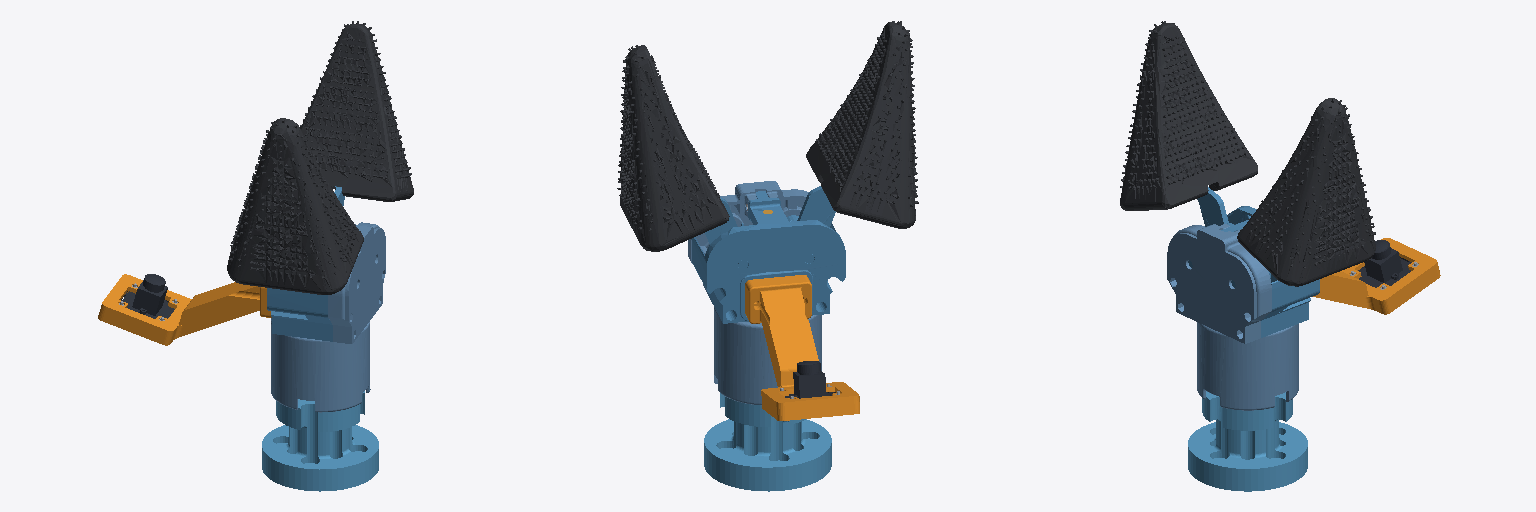
robot.urdf — marvin_r_with_gripper:
<?xml version='1.0' encoding='utf-8'?>
<robot name="marvin_r_with_gripper">
  <link name="Base_R">
    <inertial>
      <origin xyz="0.00032267 4.798E-05 0.04066353" rpy="0 0 0" />
      <mass value="1.1962" />
      <inertia ixx="0.00107329" ixy="-1.68E-06" ixz="-1.05E-05" iyy="0.00107003" iyz="-3.43E-06" izz="0.00127315" />
    </inertial>
    <visual>
      <origin xyz="0 0 0" rpy="0 0 0" />
      <geometry>
        <mesh filename="../meshes/Base_R.STL" />
      </geometry>
      <material name="">
        <color rgba="0.84 0.87 0.91 1" />
      </material>
    </visual>
    <collision>
      <origin xyz="0 0 0" rpy="0 0 0" />
      <geometry>
        <mesh filename="../meshes/Base_R.STL" />
      </geometry>
    </collision>
  </link>
  <link name="Link1_R">
    <inertial>
      <origin xyz="0.00002347 0.00557150 -0.03075998" rpy="0 0 0" />
      <mass value="1.9705" />
      <inertia ixx="0.00492293" ixy="0.00000550" ixz="0.00000193" iyy="0.00526513" iyz="0.00033232" izz="0.00188107" />
    </inertial>
    <visual>
      <origin xyz="0 0 0" rpy="0 0 0" />
      <geometry>
        <mesh filename="../meshes/Link1_R.STL" />
      </geometry>
      <material name="">
        <color rgba="0.84 0.87 0.91 1" />
      </material>
    </visual>
    <collision>
      <origin xyz="0 0 0" rpy="0 0 0" />
      <geometry>
        <mesh filename="../meshes/Link1_R.STL" />
      </geometry>
    </collision>
  </link>
  <joint name="Joint1_R" type="revolute">
    <origin xyz="0 0 0.1745" rpy="0 0 0" />
    <parent link="Base_R" />
    <child link="Link1_R" />
    <axis xyz="0 0 1" />
    <limit lower="-3.1067" upper="3.1067" effort="108" velocity="3.1416" />
  </joint>
  <link name="Link2_R">
    <inertial>
      <origin xyz="0.00013483 0.06170460 0.00950639" rpy="0 0 0" />
      <mass value="2.24398" />
      <inertia ixx="0.01194933" ixy="0.00000336" ixz="0.00000091" iyy="0.00361581" iyz="-0.00132804" izz="0.01098356" />
    </inertial>
    <visual>
      <origin xyz="0 0 0" rpy="0 0 0" />
      <geometry>
        <mesh filename="../meshes/Link2_R.STL" />
      </geometry>
      <material name="">
        <color rgba="0.84 0.87 0.91 1" />
      </material>
    </visual>
    <collision>
      <origin xyz="0 0 0" rpy="0 0 0" />
      <geometry>
        <mesh filename="../meshes/Link2_R.STL" />
      </geometry>
    </collision>
  </link>
  <joint name="Joint2_R" type="revolute">
    <origin xyz="0 0 0" rpy="1.5708 0 0" />
    <parent link="Link1_R" />
    <child link="Link2_R" />
    <axis xyz="0 0 1" />
    <limit lower="-2.0944" upper="2.0944" effort="108" velocity="3.1416" />
  </joint>
  <link name="Link3_R">
    <inertial>
      <origin xyz="0.00968562 0.00246599 -0.04627302" rpy="0 0 0" />
      <mass value="1.9242" />
      <inertia ixx="0.00718224" ixy="0.00004413" ixz="0.00089552" iyy="0.00762563" iyz="0.00022096" izz="0.00178597" />
    </inertial>
    <visual>
      <origin xyz="0 0 0" rpy="0 0 0" />
      <geometry>
        <mesh filename="../meshes/Link3_R.STL" />
      </geometry>
      <material name="">
        <color rgba="0.84 0.87 0.91 1" />
      </material>
    </visual>
    <collision>
      <origin xyz="0 0 0" rpy="0 0 0" />
      <geometry>
        <mesh filename="../meshes/Link3_R.STL" />
      </geometry>
    </collision>
  </link>
  <joint name="Joint3_R" type="revolute">
    <origin xyz="0 0.287 0" rpy="-1.5708 0 0" />
    <parent link="Link2_R" />
    <child link="Link3_R" />
    <axis xyz="0 0 1" />
    <limit lower="-3.1067" upper="3.1067" effort="66" velocity="3.1416" />
  </joint>
  <link name="Link4_R">
    <inertial>
      <origin xyz="0.00850411 -0.04718223 0.00941509" rpy="0 0 0" />
      <mass value="1.6085" />
      <inertia ixx="0.00580480" ixy="-0.00066669" ixz="-0.00012722" iyy="0.00223807" iyz="0.00070523" izz="0.00533060" />
    </inertial>
    <visual>
      <origin xyz="0 0 0" rpy="0 0 0" />
      <geometry>
        <mesh filename="../meshes/Link4_R.STL" />
      </geometry>
      <material name="">
        <color rgba="0.84 0.87 0.91 1" />
      </material>
    </visual>
    <collision>
      <origin xyz="0 0 0" rpy="0 0 0" />
      <geometry>
        <mesh filename="../meshes/Link4_R.STL" />
      </geometry>
    </collision>
  </link>
  <joint name="Joint4_R" type="revolute">
    <origin xyz="0.018 0 0" rpy="-1.5708 0 3.1416" />
    <parent link="Link3_R" />
    <child link="Link4_R" />
    <axis xyz="0 0 1" />
    <limit lower="-2.5307" upper="1.0472" effort="66" velocity="3.1416" />
  </joint>
  <link name="Link5_R">
    <inertial>
      <origin xyz="-0.00051127 -0.00101064 -0.11271739" rpy="0 0 0" />
      <mass value="2.0883" />
      <inertia ixx="0.00626603" ixy="0.00004009" ixz="-0.00005338" iyy="0.00564387" iyz="0.00006193" izz="0.00243632" />
    </inertial>
    <visual>
      <origin xyz="0 0 0" rpy="0 0 0" />
      <geometry>
        <mesh filename="../meshes/Link5_R.STL" />
      </geometry>
      <material name="">
        <color rgba="0.84 0.87 0.91 1" />
      </material>
    </visual>
    <collision>
      <origin xyz="0 0 0" rpy="0 0 0" />
      <geometry>
        <mesh filename="../meshes/Link5_R.STL" />
      </geometry>
    </collision>
  </link>
  <joint name="Joint5_R" type="revolute">
    <origin xyz="0.018 -0.314 0" rpy="-1.5708 0 3.1416" />
    <parent link="Link4_R" />
    <child link="Link5_R" />
    <axis xyz="0 0 1" />
    <limit lower="-3.1067" upper="3.1067" effort="18" velocity="3.1416" />
  </joint>
  <link name="Link6_R">
    <inertial>
      <origin xyz="0.00032659 -0.00531336 0.00030182" rpy="0 0 0" />
      <mass value="0.72496" />
      <inertia ixx="0.00046040" ixy="-0.00000189" ixz="-0.00000083" iyy="0.00051716" iyz="-0.00000346" izz="0.00042521" />
    </inertial>
    <visual>
      <origin xyz="0 0 0" rpy="0 0 0" />
      <geometry>
        <mesh filename="../meshes/Link6_R.STL" />
      </geometry>
      <material name="">
        <color rgba="0.84 0.87 0.91 1" />
      </material>
    </visual>
    <collision>
      <origin xyz="0 0 0" rpy="0 0 0" />
      <geometry>
        <mesh filename="../meshes/Link6_R.STL" />
      </geometry>
    </collision>
  </link>
  <joint name="Joint6_R" type="revolute">
    <origin xyz="0 0 0" rpy="1.5708 -1.5708 0" />
    <parent link="Link5_R" />
    <child link="Link6_R" />
    <axis xyz="0 0 1" />
    <limit lower="-1.0472" upper="1.0472" effort="18" velocity="3.1416" />
  </joint>
  <link name="Link7_R">
    <inertial>
      <origin xyz="-0.00009108 -0.03153255 0.00889371" rpy="0 0 0" />
      <mass value="0.68606" />
      <inertia ixx="0.00173687" ixy="-0.00000345" ixz="-0.00000116" iyy="0.00089035" iyz="0.00030680" izz="0.00139406" />
    </inertial>
    <visual>
      <origin xyz="0 0 0" rpy="0 0 0" />
      <geometry>
        <mesh filename="../meshes/Link7_R.STL" />
      </geometry>
      <material name="">
        <color rgba="0.84 0.87 0.91 1" />
      </material>
    </visual>
    <collision>
      <origin xyz="0 0 0" rpy="0 0 0" />
      <geometry>
        <mesh filename="../meshes/Link7_R.STL" />
      </geometry>
    </collision>
  </link>
  <joint name="Joint7_R" type="revolute">
    <origin xyz="0 0 0" rpy="1.5708 -1.5708 0" />
    <parent link="Link6_R" />
    <child link="Link7_R" />
    <axis xyz="0 0 1" />
    <limit lower="-1.5708" upper="1.5708" effort="18" velocity="3.1416" />
  </joint>
  <mujoco>
    <compiler discardvisual="false" fusestatic="false" strippath="false" />
  </mujoco>
  <link name="flange_R" />
  <joint name="flange_fixed_R" type="fixed">
    <parent link="Link7_R" />
    <child link="flange_R" />
    <origin xyz="0 -0.095 0" rpy="1.57079632679 -1.57079632679 0" />
  </joint>
  <link name="gripper_R">
    <inertial>
      <origin xyz="0.0173978487962 -0.0173985527421 0.0879018604755" rpy="0 0 0" />
      <mass value="0.5599999999999999" />
      <inertia ixx="0.002279585654318638" iyy="0.00227957296689104" izz="0.0016745101131867824" ixy="0" ixz="0" iyz="0" />
    </inertial>
    <visual name="windows_00">
      <origin xyz="0 0 0" rpy="0 0 0" />
      <geometry>
        <mesh filename="../meshes/gripper/windows_00.stl" />
      </geometry>
      <material name="windows_00">
        <color rgba="0.65 0.66 0.68 1" />
      </material>
    </visual>
    <visual name="windows_01">
      <origin xyz="0 0 0" rpy="0 0 0" />
      <geometry>
        <mesh filename="../meshes/gripper/windows_01.stl" />
      </geometry>
      <material name="windows_01">
        <color rgba="0.65 0.66 0.68 1" />
      </material>
    </visual>
    <visual name="windows_02">
      <origin xyz="0 0 0" rpy="0 0 0" />
      <geometry>
        <mesh filename="../meshes/gripper/windows_02.stl" />
      </geometry>
      <material name="windows_02">
        <color rgba="0.65 0.66 0.68 1" />
      </material>
    </visual>
    <visual name="windows_03">
      <origin xyz="0 0 0" rpy="0 0 0" />
      <geometry>
        <mesh filename="../meshes/gripper/windows_03.stl" />
      </geometry>
      <material name="windows_03">
        <color rgba="0.65 0.66 0.68 1" />
      </material>
    </visual>
    <visual name="windows_04">
      <origin xyz="0 0 0" rpy="0 0 0" />
      <geometry>
        <mesh filename="../meshes/gripper/windows_04.stl" />
      </geometry>
      <material name="windows_04">
        <color rgba="0.65 0.66 0.68 1" />
      </material>
    </visual>
    <visual name="windows_05">
      <origin xyz="0 0 0" rpy="0 0 0" />
      <geometry>
        <mesh filename="../meshes/gripper/windows_05.stl" />
      </geometry>
      <material name="windows_05">
        <color rgba="0.65 0.66 0.68 1" />
      </material>
    </visual>
    <visual name="windows_06">
      <origin xyz="0 0 0" rpy="0 0 0" />
      <geometry>
        <mesh filename="../meshes/gripper/windows_06.stl" />
      </geometry>
      <material name="windows_06">
        <color rgba="0.65 0.66 0.68 1" />
      </material>
    </visual>
    <visual name="windows_07">
      <origin xyz="0 0 0" rpy="0 0 0" />
      <geometry>
        <mesh filename="../meshes/gripper/windows_07.stl" />
      </geometry>
      <material name="windows_07">
        <color rgba="0.65 0.66 0.68 1" />
      </material>
    </visual>
    <visual name="windows_08">
      <origin xyz="0 0 0" rpy="0 0 0" />
      <geometry>
        <mesh filename="../meshes/gripper/windows_08.stl" />
      </geometry>
      <material name="windows_08">
        <color rgba="0.65 0.66 0.68 1" />
      </material>
    </visual>
    <visual name="windows_09">
      <origin xyz="0 0 0" rpy="0 0 0" />
      <geometry>
        <mesh filename="../meshes/gripper/windows_09.stl" />
      </geometry>
      <material name="windows_09">
        <color rgba="0.65 0.66 0.68 1" />
      </material>
    </visual>
    <visual name="windows_12">
      <origin xyz="0 0 0" rpy="0 0 0" />
      <geometry>
        <mesh filename="../meshes/gripper/windows_12.stl" />
      </geometry>
      <material name="windows_12">
        <color rgba="0.64 0.67 0.71 1" />
      </material>
    </visual>
    <visual name="windows_13">
      <origin xyz="0 0 0" rpy="0 0 0" />
      <geometry>
        <mesh filename="../meshes/gripper/windows_13.stl" />
      </geometry>
      <material name="windows_13">
        <color rgba="0.43 0.58 0.72 1" />
      </material>
    </visual>
    <collision>
      <origin xyz="0 0 0" rpy="0 0 0" />
      <geometry>
        <mesh filename="../meshes/gripper/windows_13_collision.stl" />
      </geometry>
    </collision>
    <visual name="windows_14">
      <origin xyz="0 0 0" rpy="0 0 0" />
      <geometry>
        <mesh filename="../meshes/gripper/windows_14.stl" />
      </geometry>
      <material name="windows_14">
        <color rgba="0.92 0.6 0.2 1" />
      </material>
    </visual>
    <visual name="windows_15">
      <origin xyz="0 0 0" rpy="0 0 0" />
      <geometry>
        <mesh filename="../meshes/gripper/windows_15.stl" />
      </geometry>
      <material name="windows_15">
        <color rgba="0.83 0.62 0.28 1" />
      </material>
    </visual>
    <visual name="windows_18">
      <origin xyz="0 0 0" rpy="0 0 0" />
      <geometry>
        <mesh filename="../meshes/gripper/windows_18.stl" />
      </geometry>
      <material name="windows_18">
        <color rgba="0.64 0.67 0.71 1" />
      </material>
    </visual>
    <visual name="windows_19">
      <origin xyz="0 0 0" rpy="0 0 0" />
      <geometry>
        <mesh filename="../meshes/gripper/windows_19.stl" />
      </geometry>
      <material name="windows_19">
        <color rgba="0.64 0.67 0.71 1" />
      </material>
    </visual>
    <visual name="windows_20">
      <origin xyz="0 0 0" rpy="0 0 0" />
      <geometry>
        <mesh filename="../meshes/gripper/windows_20.stl" />
      </geometry>
      <material name="windows_20">
        <color rgba="0.35 0.57 0.73 1" />
      </material>
    </visual>
    <collision>
      <origin xyz="0 0 0" rpy="0 0 0" />
      <geometry>
        <mesh filename="../meshes/gripper/windows_20_collision.stl" />
      </geometry>
    </collision>
    <visual name="windows_21">
      <origin xyz="0 0 0" rpy="0 0 0" />
      <geometry>
        <mesh filename="../meshes/gripper/windows_21.stl" />
      </geometry>
      <material name="windows_21">
        <color rgba="0.22 0.24 0.28 1" />
      </material>
    </visual>
    <visual name="windows_22">
      <origin xyz="0 0 0" rpy="0 0 0" />
      <geometry>
        <mesh filename="../meshes/gripper/windows_22.stl" />
      </geometry>
      <material name="windows_22">
        <color rgba="0.38 0.64 0.8 1" />
      </material>
    </visual>
    <visual name="windows_23">
      <origin xyz="0 0 0" rpy="0 0 0" />
      <geometry>
        <mesh filename="../meshes/gripper/windows_23.stl" />
      </geometry>
      <material name="windows_23">
        <color rgba="0.43 0.58 0.72 1" />
      </material>
    </visual>
    <collision>
      <origin xyz="0 0 0" rpy="0 0 0" />
      <geometry>
        <mesh filename="../meshes/gripper/windows_23_collision.stl" />
      </geometry>
    </collision>
    <visual name="windows_25">
      <origin xyz="0 0 0" rpy="0 0 0" />
      <geometry>
        <mesh filename="../meshes/gripper/windows_25.stl" />
      </geometry>
      <material name="windows_25">
        <color rgba="0.64 0.67 0.71 1" />
      </material>
    </visual>
    <visual name="windows_26">
      <origin xyz="0 0 0" rpy="0 0 0" />
      <geometry>
        <mesh filename="../meshes/gripper/windows_26.stl" />
      </geometry>
      <material name="windows_26">
        <color rgba="0.64 0.67 0.71 1" />
      </material>
    </visual>
    <visual name="windows_27">
      <origin xyz="0 0 0" rpy="0 0 0" />
      <geometry>
        <mesh filename="../meshes/gripper/windows_27.stl" />
      </geometry>
      <material name="windows_27">
        <color rgba="0.64 0.67 0.71 1" />
      </material>
    </visual>
    <visual name="windows_28">
      <origin xyz="0 0 0" rpy="0 0 0" />
      <geometry>
        <mesh filename="../meshes/gripper/windows_28.stl" />
      </geometry>
      <material name="windows_28">
        <color rgba="0.64 0.67 0.71 1" />
      </material>
    </visual>
    <visual name="windows_29">
      <origin xyz="0 0 0" rpy="0 0 0" />
      <geometry>
        <mesh filename="../meshes/gripper/windows_29.stl" />
      </geometry>
      <material name="windows_29">
        <color rgba="0.65 0.66 0.68 1" />
      </material>
    </visual>
    <visual name="windows_30">
      <origin xyz="0 0 0" rpy="0 0 0" />
      <geometry>
        <mesh filename="../meshes/gripper/windows_30.stl" />
      </geometry>
      <material name="windows_30">
        <color rgba="0.64 0.67 0.71 1" />
      </material>
    </visual>
    <visual name="windows_31">
      <origin xyz="0 0 0" rpy="0 0 0" />
      <geometry>
        <mesh filename="../meshes/gripper/windows_31.stl" />
      </geometry>
      <material name="windows_31">
        <color rgba="0.65 0.66 0.68 1" />
      </material>
    </visual>
    <visual name="windows_32">
      <origin xyz="0 0 0" rpy="0 0 0" />
      <geometry>
        <mesh filename="../meshes/gripper/windows_32.stl" />
      </geometry>
      <material name="windows_32">
        <color rgba="0.65 0.66 0.68 1" />
      </material>
    </visual>
    <visual name="windows_33">
      <origin xyz="0 0 0" rpy="0 0 0" />
      <geometry>
        <mesh filename="../meshes/gripper/windows_33.stl" />
      </geometry>
      <material name="windows_33">
        <color rgba="0.65 0.66 0.68 1" />
      </material>
    </visual>
    <visual name="windows_34">
      <origin xyz="0 0 0" rpy="0 0 0" />
      <geometry>
        <mesh filename="../meshes/gripper/windows_34.stl" />
      </geometry>
      <material name="windows_34">
        <color rgba="0.64 0.67 0.71 1" />
      </material>
    </visual>
    <visual name="windows_35">
      <origin xyz="0 0 0" rpy="0 0 0" />
      <geometry>
        <mesh filename="../meshes/gripper/windows_35.stl" />
      </geometry>
      <material name="windows_35">
        <color rgba="0.65 0.66 0.68 1" />
      </material>
    </visual>
    <visual name="windows_36">
      <origin xyz="0 0 0" rpy="0 0 0" />
      <geometry>
        <mesh filename="../meshes/gripper/windows_36.stl" />
      </geometry>
      <material name="windows_36">
        <color rgba="0.64 0.67 0.71 1" />
      </material>
    </visual>
    <visual name="windows_37">
      <origin xyz="0 0 0" rpy="0 0 0" />
      <geometry>
        <mesh filename="../meshes/gripper/windows_37.stl" />
      </geometry>
      <material name="windows_37">
        <color rgba="0.64 0.67 0.71 1" />
      </material>
    </visual>
  </link>
  <link name="gripper_R_shaft">
    <inertial>
      <origin xyz="0 0 0.0222999959052" rpy="0 0 0" />
      <mass value="0.08000000000000002" />
      <inertia ixx="3.8087871309740615e-05" iyy="3.809107795905756e-05" izz="1.6325626265346687e-05" ixy="0" ixz="0" iyz="0" />
    </inertial>
    <visual name="windows_24">
      <origin xyz="0 0 0" rpy="0 0 0" />
      <geometry>
        <mesh filename="../meshes/gripper/windows_24.stl" />
      </geometry>
      <material name="windows_24">
        <color rgba="0.83 0.62 0.28 1" />
      </material>
    </visual>
  </link>
  <link name="gripper_R_1">
    <inertial>
      <origin xyz="0.00609649628609 -0.00743152875382 0.0388951395498" rpy="0 0 0" />
      <mass value="0.08000000000000002" />
      <inertia ixx="9.842353058535354e-05" iyy="0.00010140583011828495" izz="4.556528629881749e-05" ixy="0" ixz="0" iyz="0" />
    </inertial>
    <visual name="windows_11">
      <origin xyz="0 0 0" rpy="0 0 0" />
      <geometry>
        <mesh filename="../meshes/gripper/windows_11.stl" />
      </geometry>
      <material name="windows_11">
        <color rgba="0.25 0.26 0.28 1" />
      </material>
    </visual>
    <collision>
      <origin xyz="0 0 0" rpy="0 0 0" />
      <geometry>
        <mesh filename="../meshes/gripper/windows_11_collision.stl" />
      </geometry>
    </collision>
    <visual name="windows_16">
      <origin xyz="0 0 0" rpy="0 0 0" />
      <geometry>
        <mesh filename="../meshes/gripper/windows_16.stl" />
      </geometry>
      <material name="windows_16">
        <color rgba="0.35 0.57 0.73 1" />
      </material>
    </visual>
    <collision>
      <origin xyz="0 0 0" rpy="0 0 0" />
      <geometry>
        <mesh filename="../meshes/gripper/windows_16_collision.stl" />
      </geometry>
    </collision>
  </link>
  <link name="gripper_R_17">
    <inertial>
      <origin xyz="0.00932866686431 0.00192968675112 0.0388951440536" rpy="0 0 0" />
      <mass value="0.08000000000000002" />
      <inertia ixx="9.888106375838761e-05" iyy="9.648394838028121e-05" izz="4.1100970061134626e-05" ixy="0" ixz="0" iyz="0" />
    </inertial>
    <visual name="windows_10">
      <origin xyz="0 0 0" rpy="0 0 0" />
      <geometry>
        <mesh filename="../meshes/gripper/windows_10.stl" />
      </geometry>
      <material name="windows_10">
        <color rgba="0.25 0.26 0.28 1" />
      </material>
    </visual>
    <collision>
      <origin xyz="0 0 0" rpy="0 0 0" />
      <geometry>
        <mesh filename="../meshes/gripper/windows_10_collision.stl" />
      </geometry>
    </collision>
    <visual name="windows_17">
      <origin xyz="0 0 0" rpy="0 0 0" />
      <geometry>
        <mesh filename="../meshes/gripper/windows_17.stl" />
      </geometry>
      <material name="windows_17">
        <color rgba="0.35 0.57 0.73 1" />
      </material>
    </visual>
    <collision>
      <origin xyz="0 0 0" rpy="0 0 0" />
      <geometry>
        <mesh filename="../meshes/gripper/windows_17_collision.stl" />
      </geometry>
    </collision>
  </link>
  <joint name="gripper_drive_R" type="revolute">
    <parent link="gripper_R" />
    <child link="gripper_R_shaft" />
    <origin xyz="1.10189635194e-14 9.66596594432e-13 0.1527" rpy="0 0 0" />
    <axis xyz="5.26951314166e-16 -1.72167242171e-11 -1" />
    <limit lower="0" upper="1.2921362630655375" effort="2" velocity="7" />
  </joint>
  <joint name="gripper_jaw_1_R" type="revolute">
    <parent link="gripper_R" />
    <child link="gripper_R_1" />
    <origin xyz="-0.0134169278033 0.0146629353591 0.141725549598" rpy="0 0 0" />
    <axis xyz="-0.737757472959 -0.675065292805 0.00087266452685" />
    <limit lower="-0.14271280859747848" upper="0.36563074194220935" effort="2" velocity="7" />
    <mimic joint="gripper_drive_R" multiplier="-0.39341326845333224" offset="0.36563074194220935" />
  </joint>
  <joint name="gripper_jaw_17_R" type="revolute">
    <parent link="gripper_R" />
    <child link="gripper_R_17" />
    <origin xyz="0.0134169278033 -0.0146629353575 0.141725549599" rpy="0 0 0" />
    <axis xyz="-0.737757472959 -0.675065292805 0.00087266452685" />
    <limit lower="-0.36563074194220935" upper="0.14271280859747848" effort="2" velocity="7" />
    <mimic joint="gripper_drive_R" multiplier="0.39341326845333224" offset="-0.36563074194220935" />
  </joint>
  <joint name="gripper_mount_R" type="fixed">
    <parent link="flange_R" />
    <child link="gripper_R" />
    <origin xyz="0 0 0" rpy="0 0 -1.5707963267948966" />
  </joint>
  <link name="grasp_center_R" />
  <joint name="grasp_center_fixed_R" type="fixed">
    <parent link="gripper_R" />
    <child link="grasp_center_R" />
    <origin xyz="1.10241676898e-14 7.77652248152e-13 0.141725549598" rpy="-1.45632245152e-08 -1.56992366216 0.741053563255" />
  </joint>
</robot>

--- Facts derived from the render (not from the file) ---
The picture shows the robot from 3 angles, left to right: view 1: azimuth 30°, elevation 25°; view 2: azimuth 150°, elevation 25°; view 3: azimuth 270°, elevation 25°; orthographic projection.
Robot: marvin_r_with_gripper — 14 links, 13 joints (10 revolute, 3 fixed); root link Base_R; default pose: all joints at 0.
Visible links, largest first — view 1: gripper_R, gripper_R_17, gripper_R_1; view 2: gripper_R, gripper_R_17, gripper_R_1; view 3: gripper_R, gripper_R_17, gripper_R_1.
Link boxes in pixels (x1=…): gripper_R: x1=98, y1=222, x2=385, y2=491; gripper_R_17: x1=227, y1=118, x2=363, y2=294; gripper_R_1: x1=300, y1=21, x2=413, y2=205; gripper_R: x1=688, y1=181, x2=859, y2=491; gripper_R_17: x1=787, y1=21, x2=918, y2=263; gripper_R_1: x1=617, y1=45, x2=747, y2=269; gripper_R: x1=1167, y1=206, x2=1440, y2=491; gripper_R_17: x1=1120, y1=21, x2=1257, y2=267; gripper_R_1: x1=1231, y1=98, x2=1375, y2=287.
Bounding box of the posed robot: 0.1957 × 0.2003 × 0.2795 m (x, y, z).
Meshes: 46 distinct files referenced, 37 mesh visuals loaded (37 binary STL); not drawn: 9 (reference not matched to a file when rendering).
